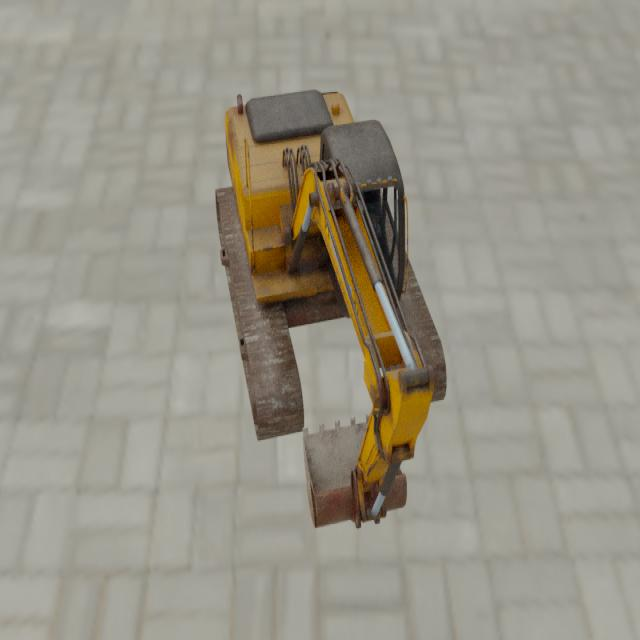excavator: (214, 88, 447, 529)
